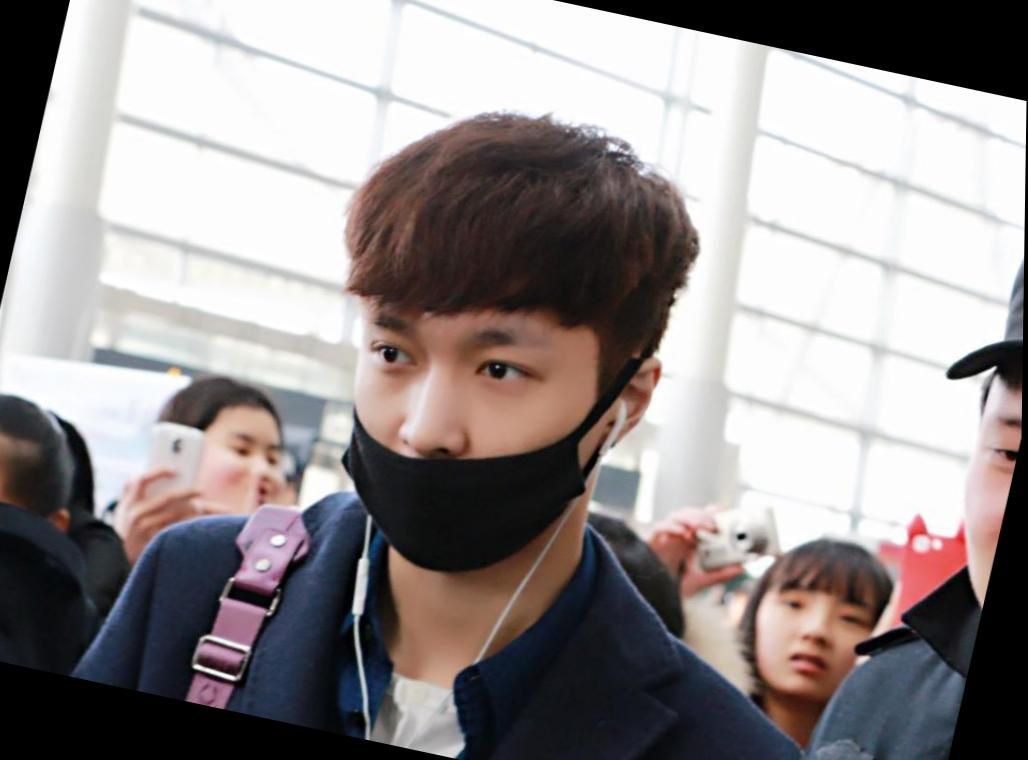NONE: (758, 584, 876, 700), (195, 417, 295, 516)
WRONG: (318, 293, 629, 601)
